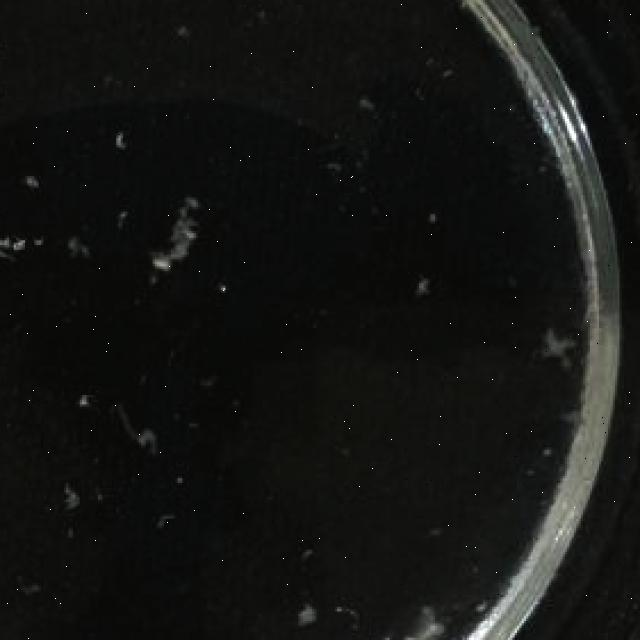Microplastic: (2, 221, 110, 274), (146, 209, 207, 283), (542, 300, 590, 350), (48, 476, 96, 526), (123, 412, 166, 459)
